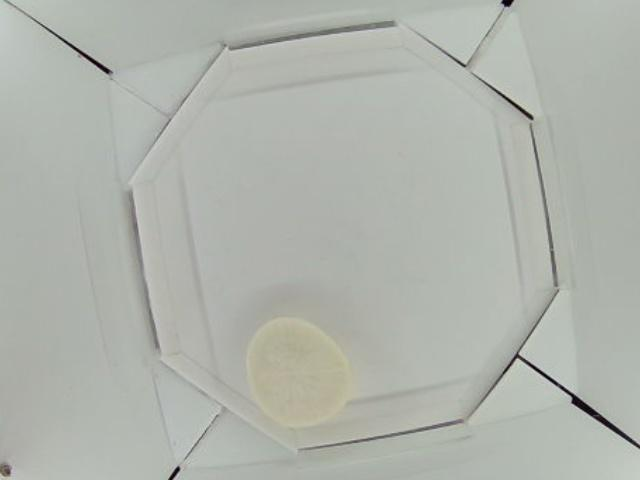Mooli: (246, 317, 353, 426)
